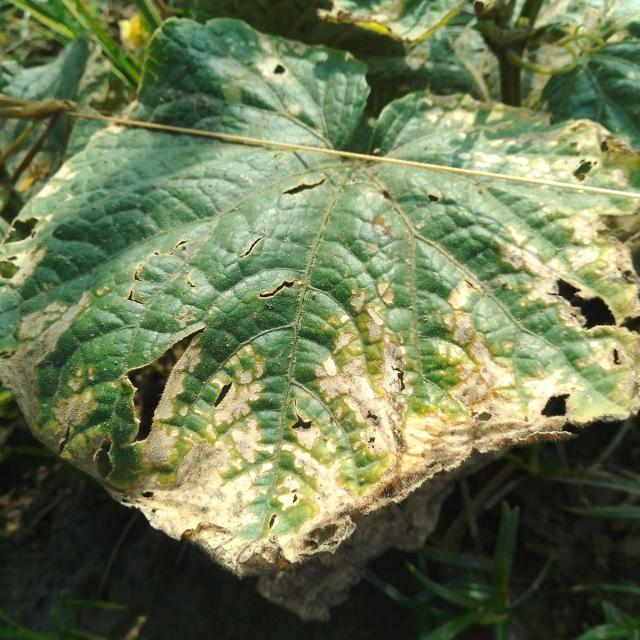cucumber_gummy: (0, 2, 640, 623)
